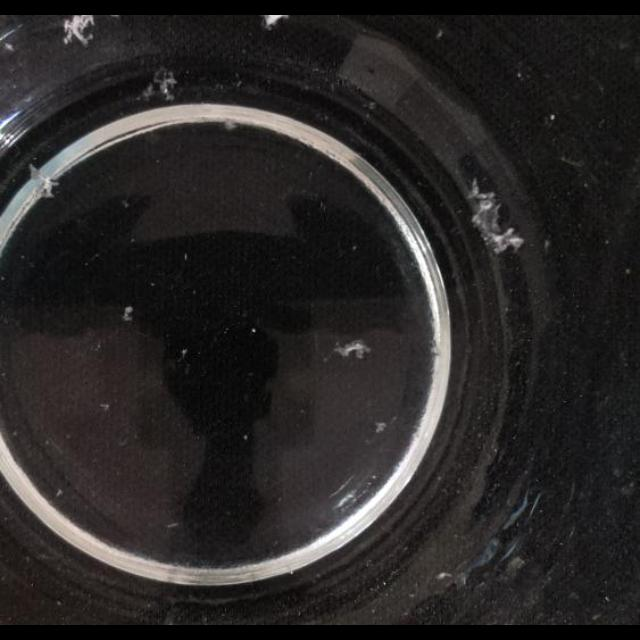Fibre: (466, 178, 522, 255), (142, 66, 180, 104), (63, 15, 97, 47), (333, 338, 372, 359), (373, 421, 387, 433), (223, 120, 239, 130), (4, 42, 15, 52)
microbeads: (435, 570, 453, 582), (122, 306, 134, 322), (98, 403, 110, 411), (179, 348, 187, 358), (182, 252, 188, 262), (56, 489, 62, 498), (351, 244, 357, 252), (518, 71, 524, 79), (243, 434, 249, 441), (251, 328, 257, 334), (549, 114, 555, 120), (625, 268, 631, 274)
